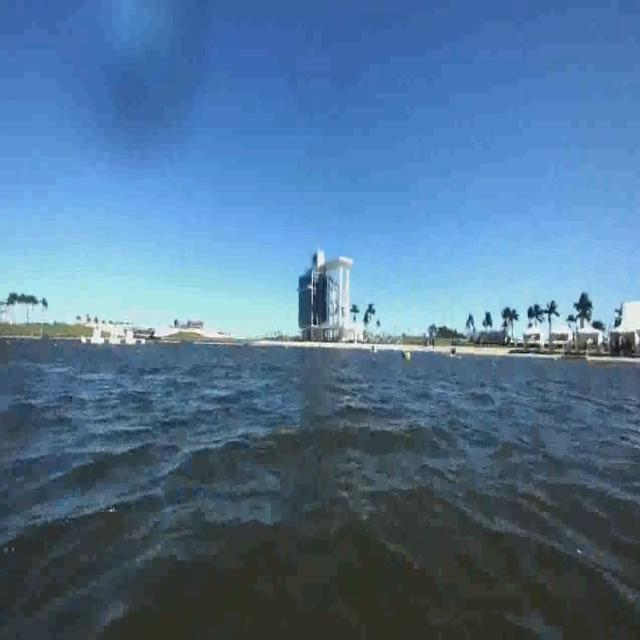yellow-buoy: (407, 350, 413, 362)
